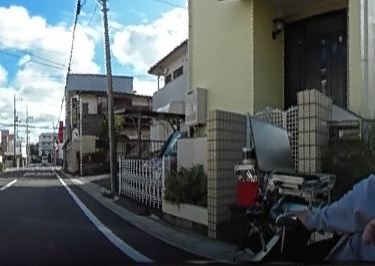person: (287, 48, 375, 265)
